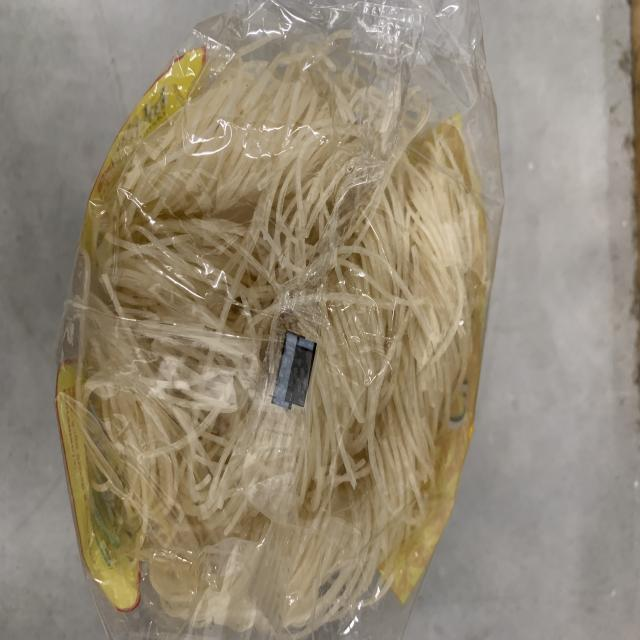object_name: (97, 28, 439, 607)
